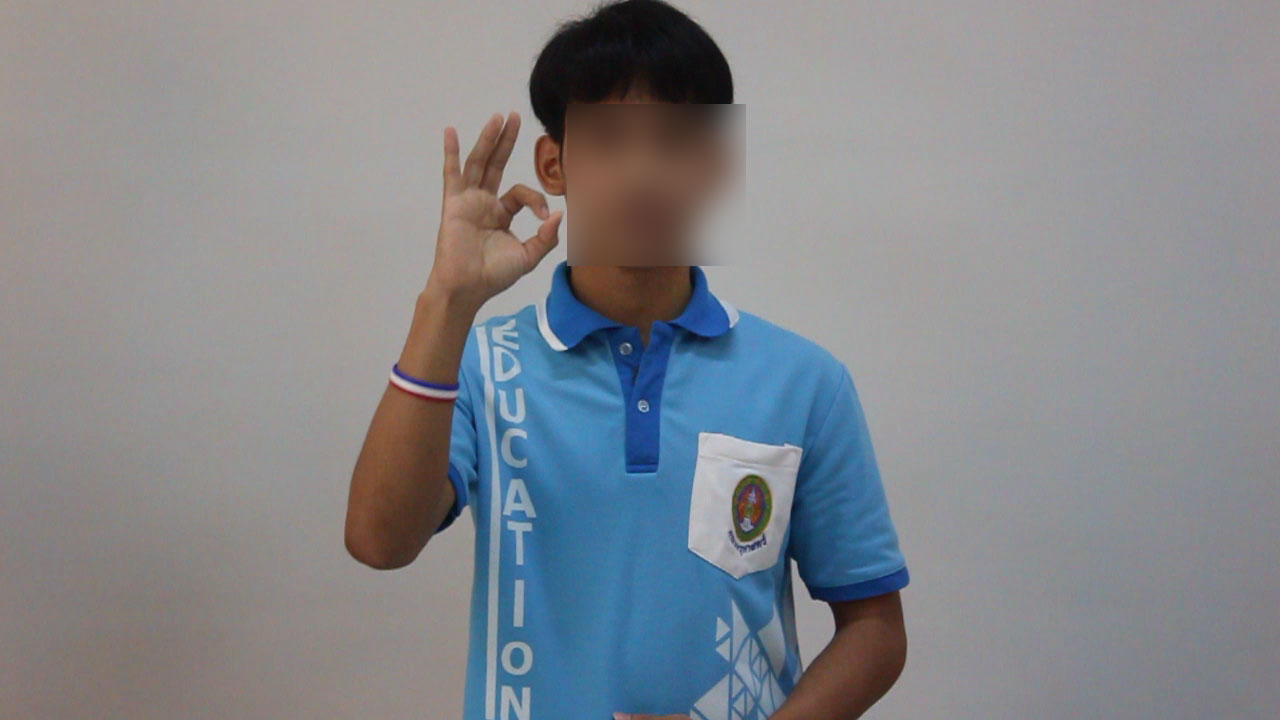for: (403, 99, 571, 314)
